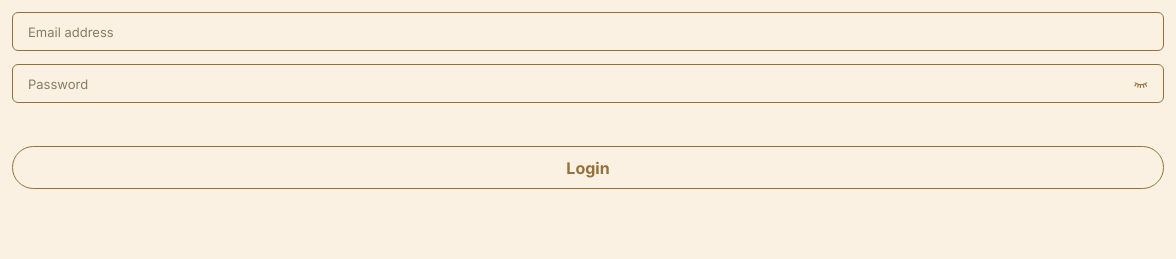
Test: LoginForm › shows an error and does not navigate on bad credentials
In the field labelled "Email": (588, 32) [12, 12, 1164, 51], type "a@b.com"
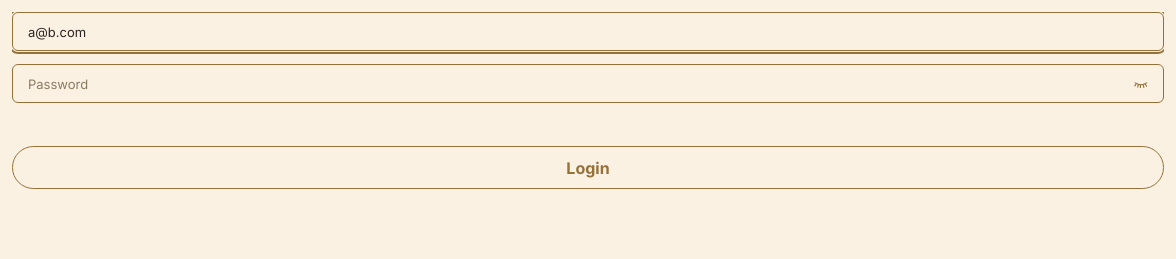
In the password field labelled "Password": (588, 84) [12, 64, 1164, 103], type "wrong-pass"
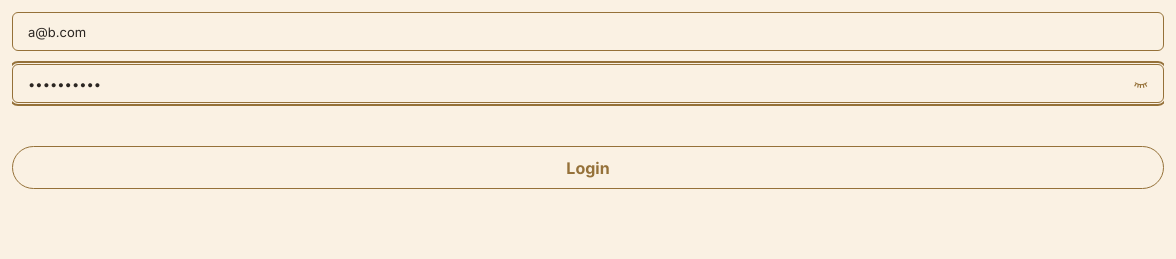
Click the button "Login": (588, 168) [12, 146, 1164, 189]
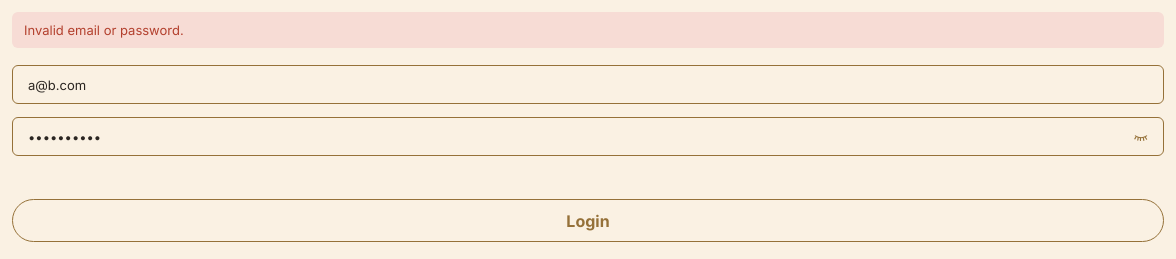
Result: the text "Invalid email or password." is shown at [12, 12, 1164, 48]
